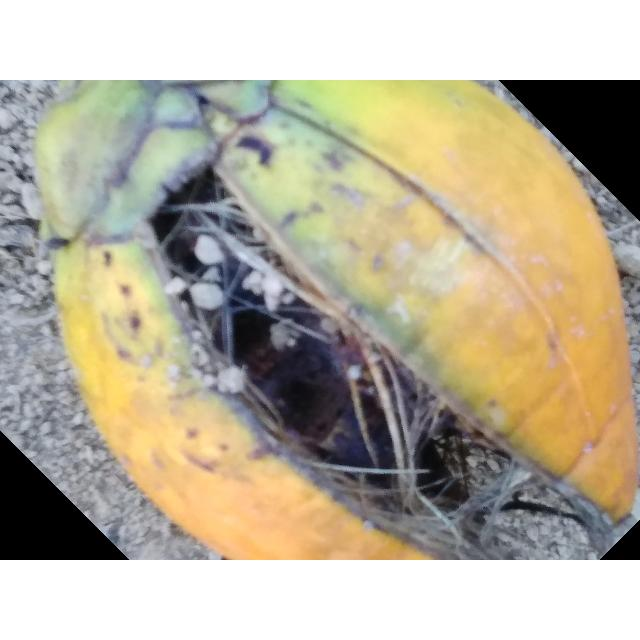damaged: (37, 80, 640, 560)
